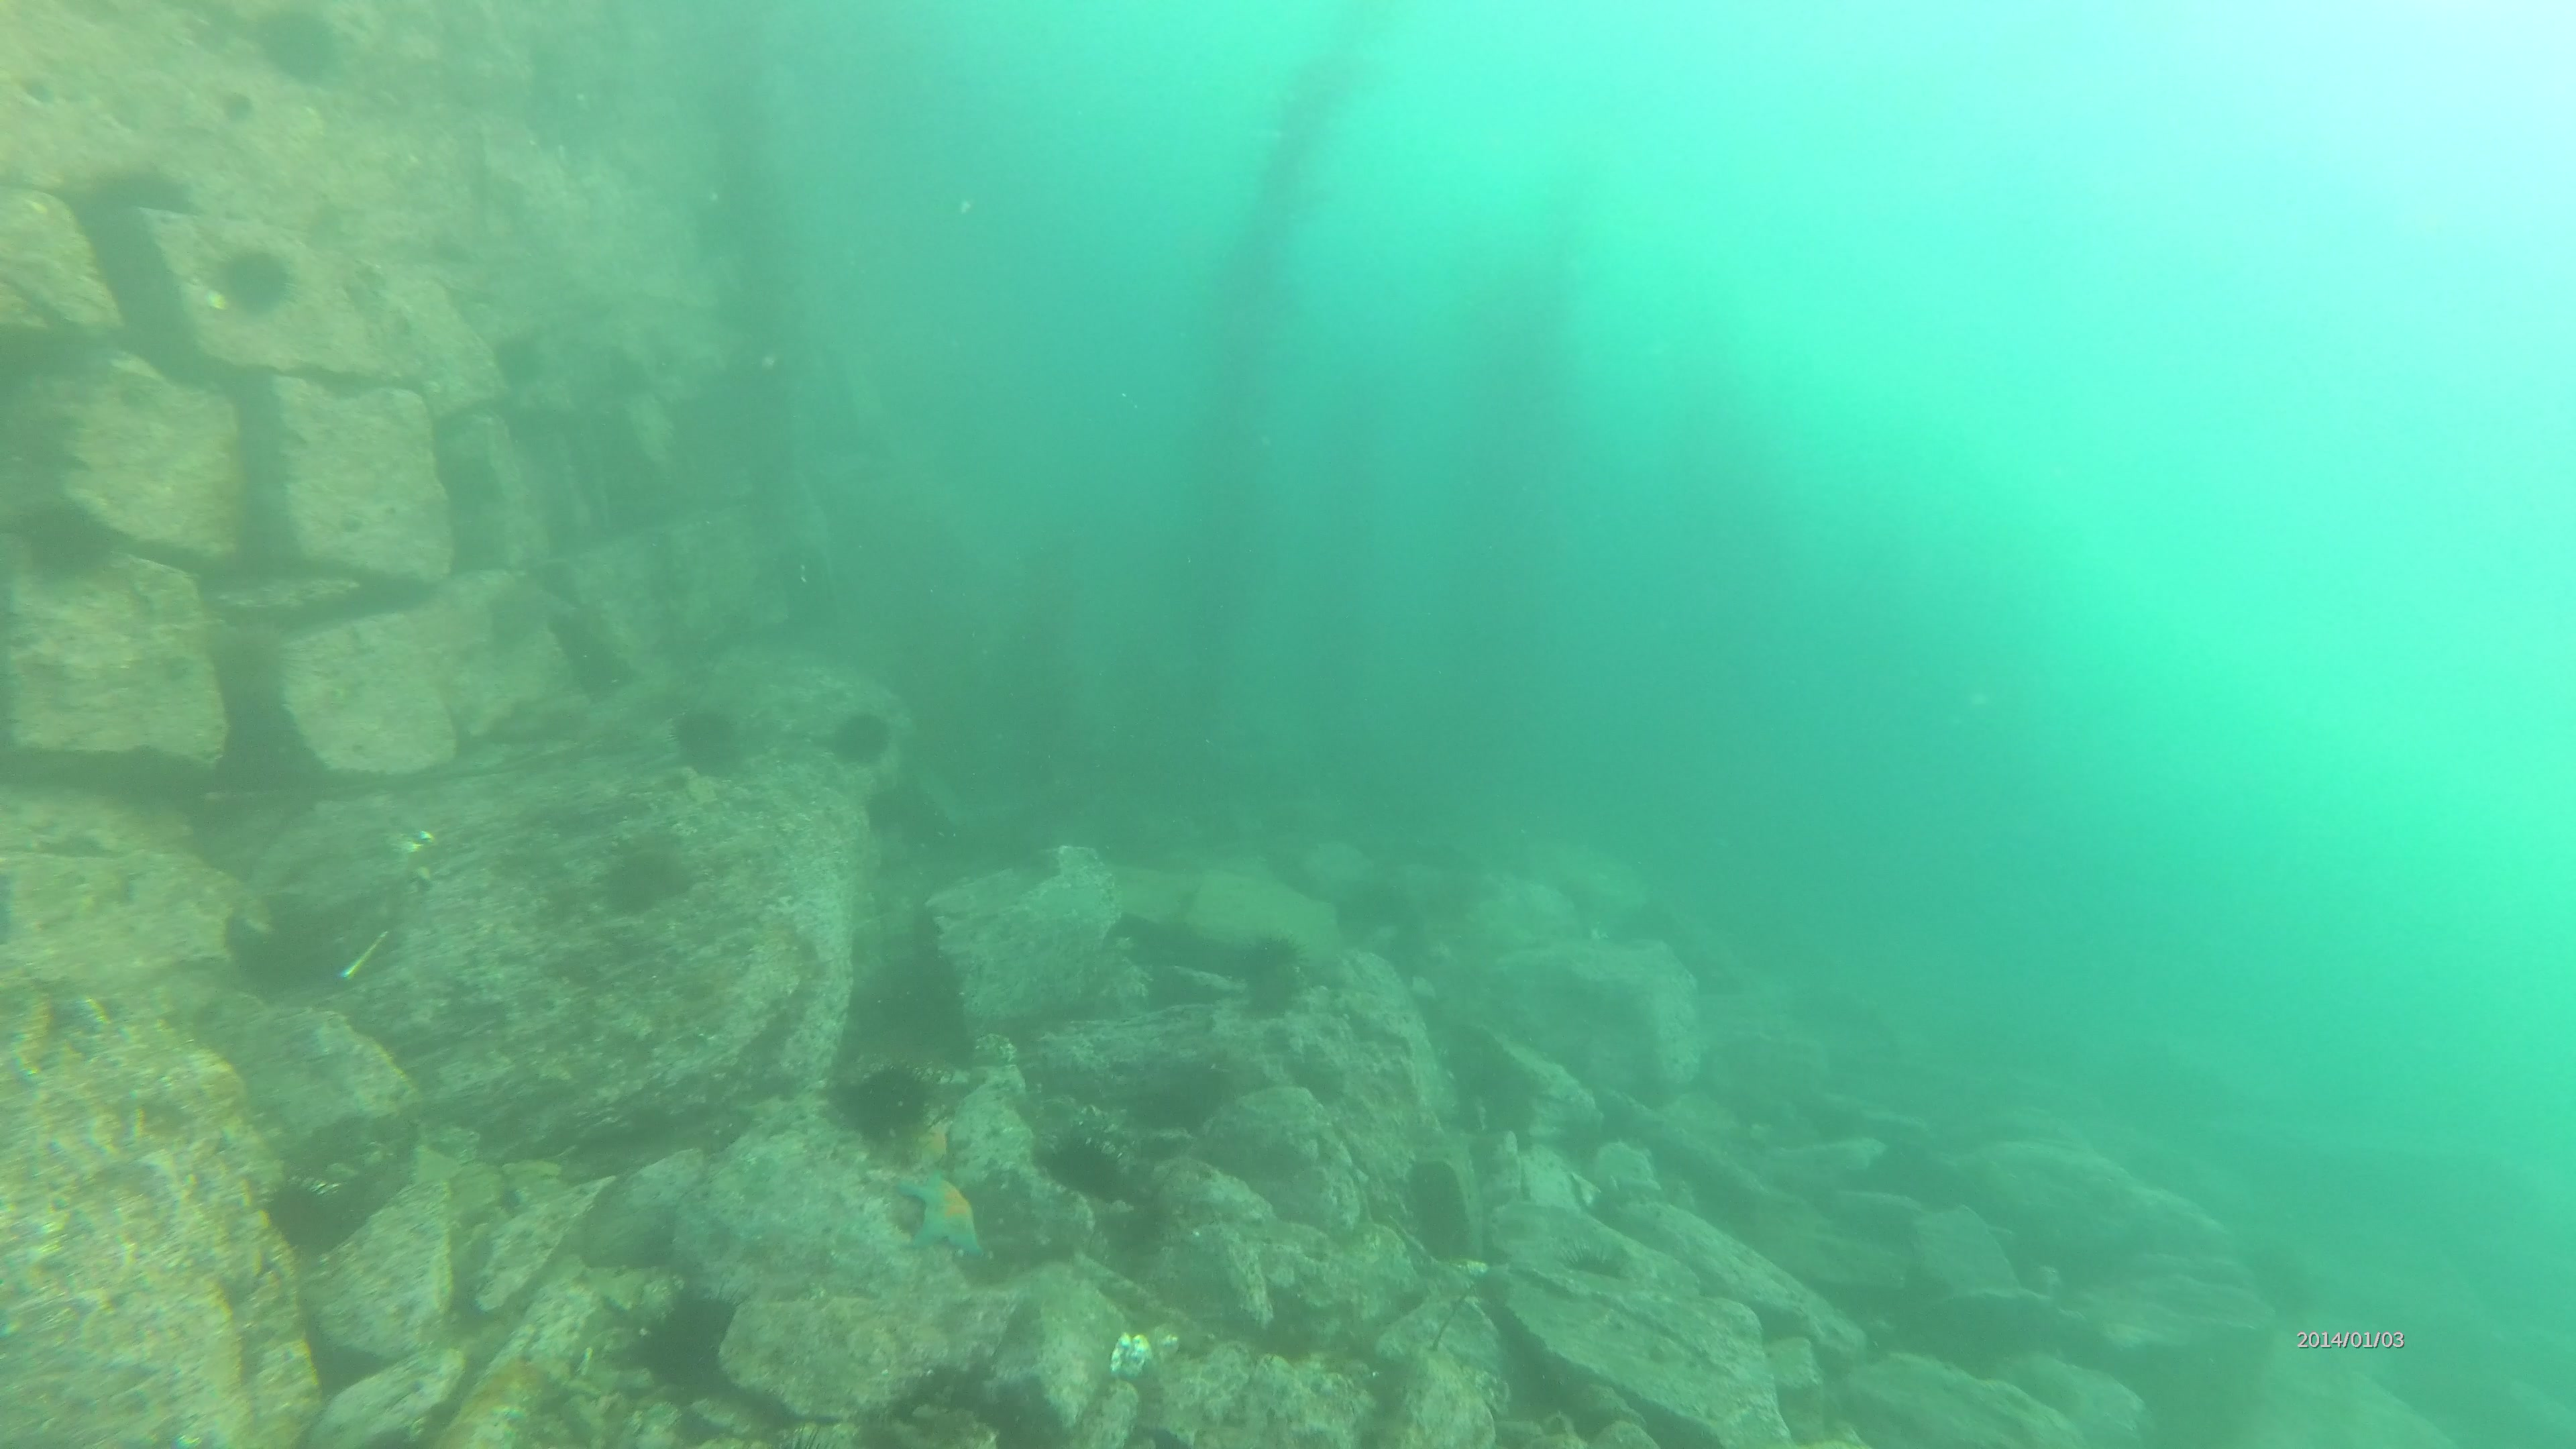echinus: (635, 1297, 764, 1405), (19, 492, 122, 589), (842, 1056, 938, 1154), (258, 1166, 347, 1270), (207, 239, 306, 329), (255, 4, 347, 92), (598, 828, 690, 915), (92, 161, 209, 226), (1047, 1131, 1134, 1214), (1237, 922, 1316, 1007), (674, 699, 750, 786), (479, 318, 561, 398), (823, 701, 902, 773)
starfish: (893, 1159, 985, 1253)
